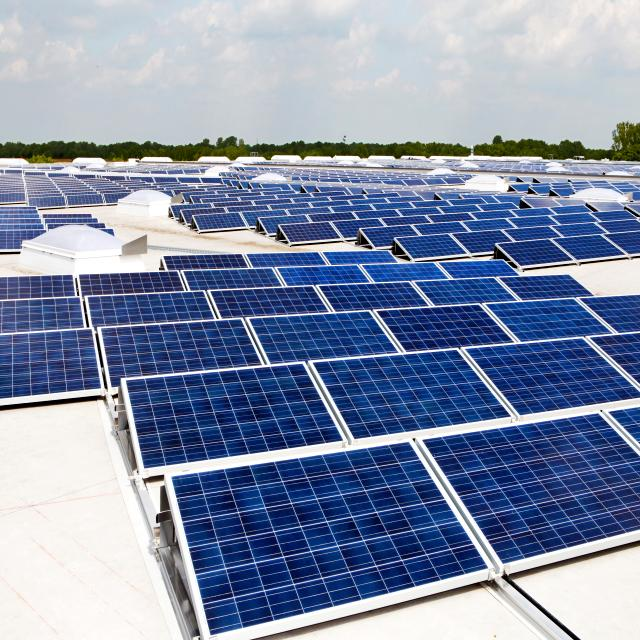crack: (156, 423, 508, 640), (427, 400, 640, 594), (106, 357, 352, 484), (301, 340, 514, 466), (456, 330, 640, 450), (88, 316, 280, 408), (239, 297, 402, 377), (368, 293, 511, 364), (0, 328, 114, 409)
